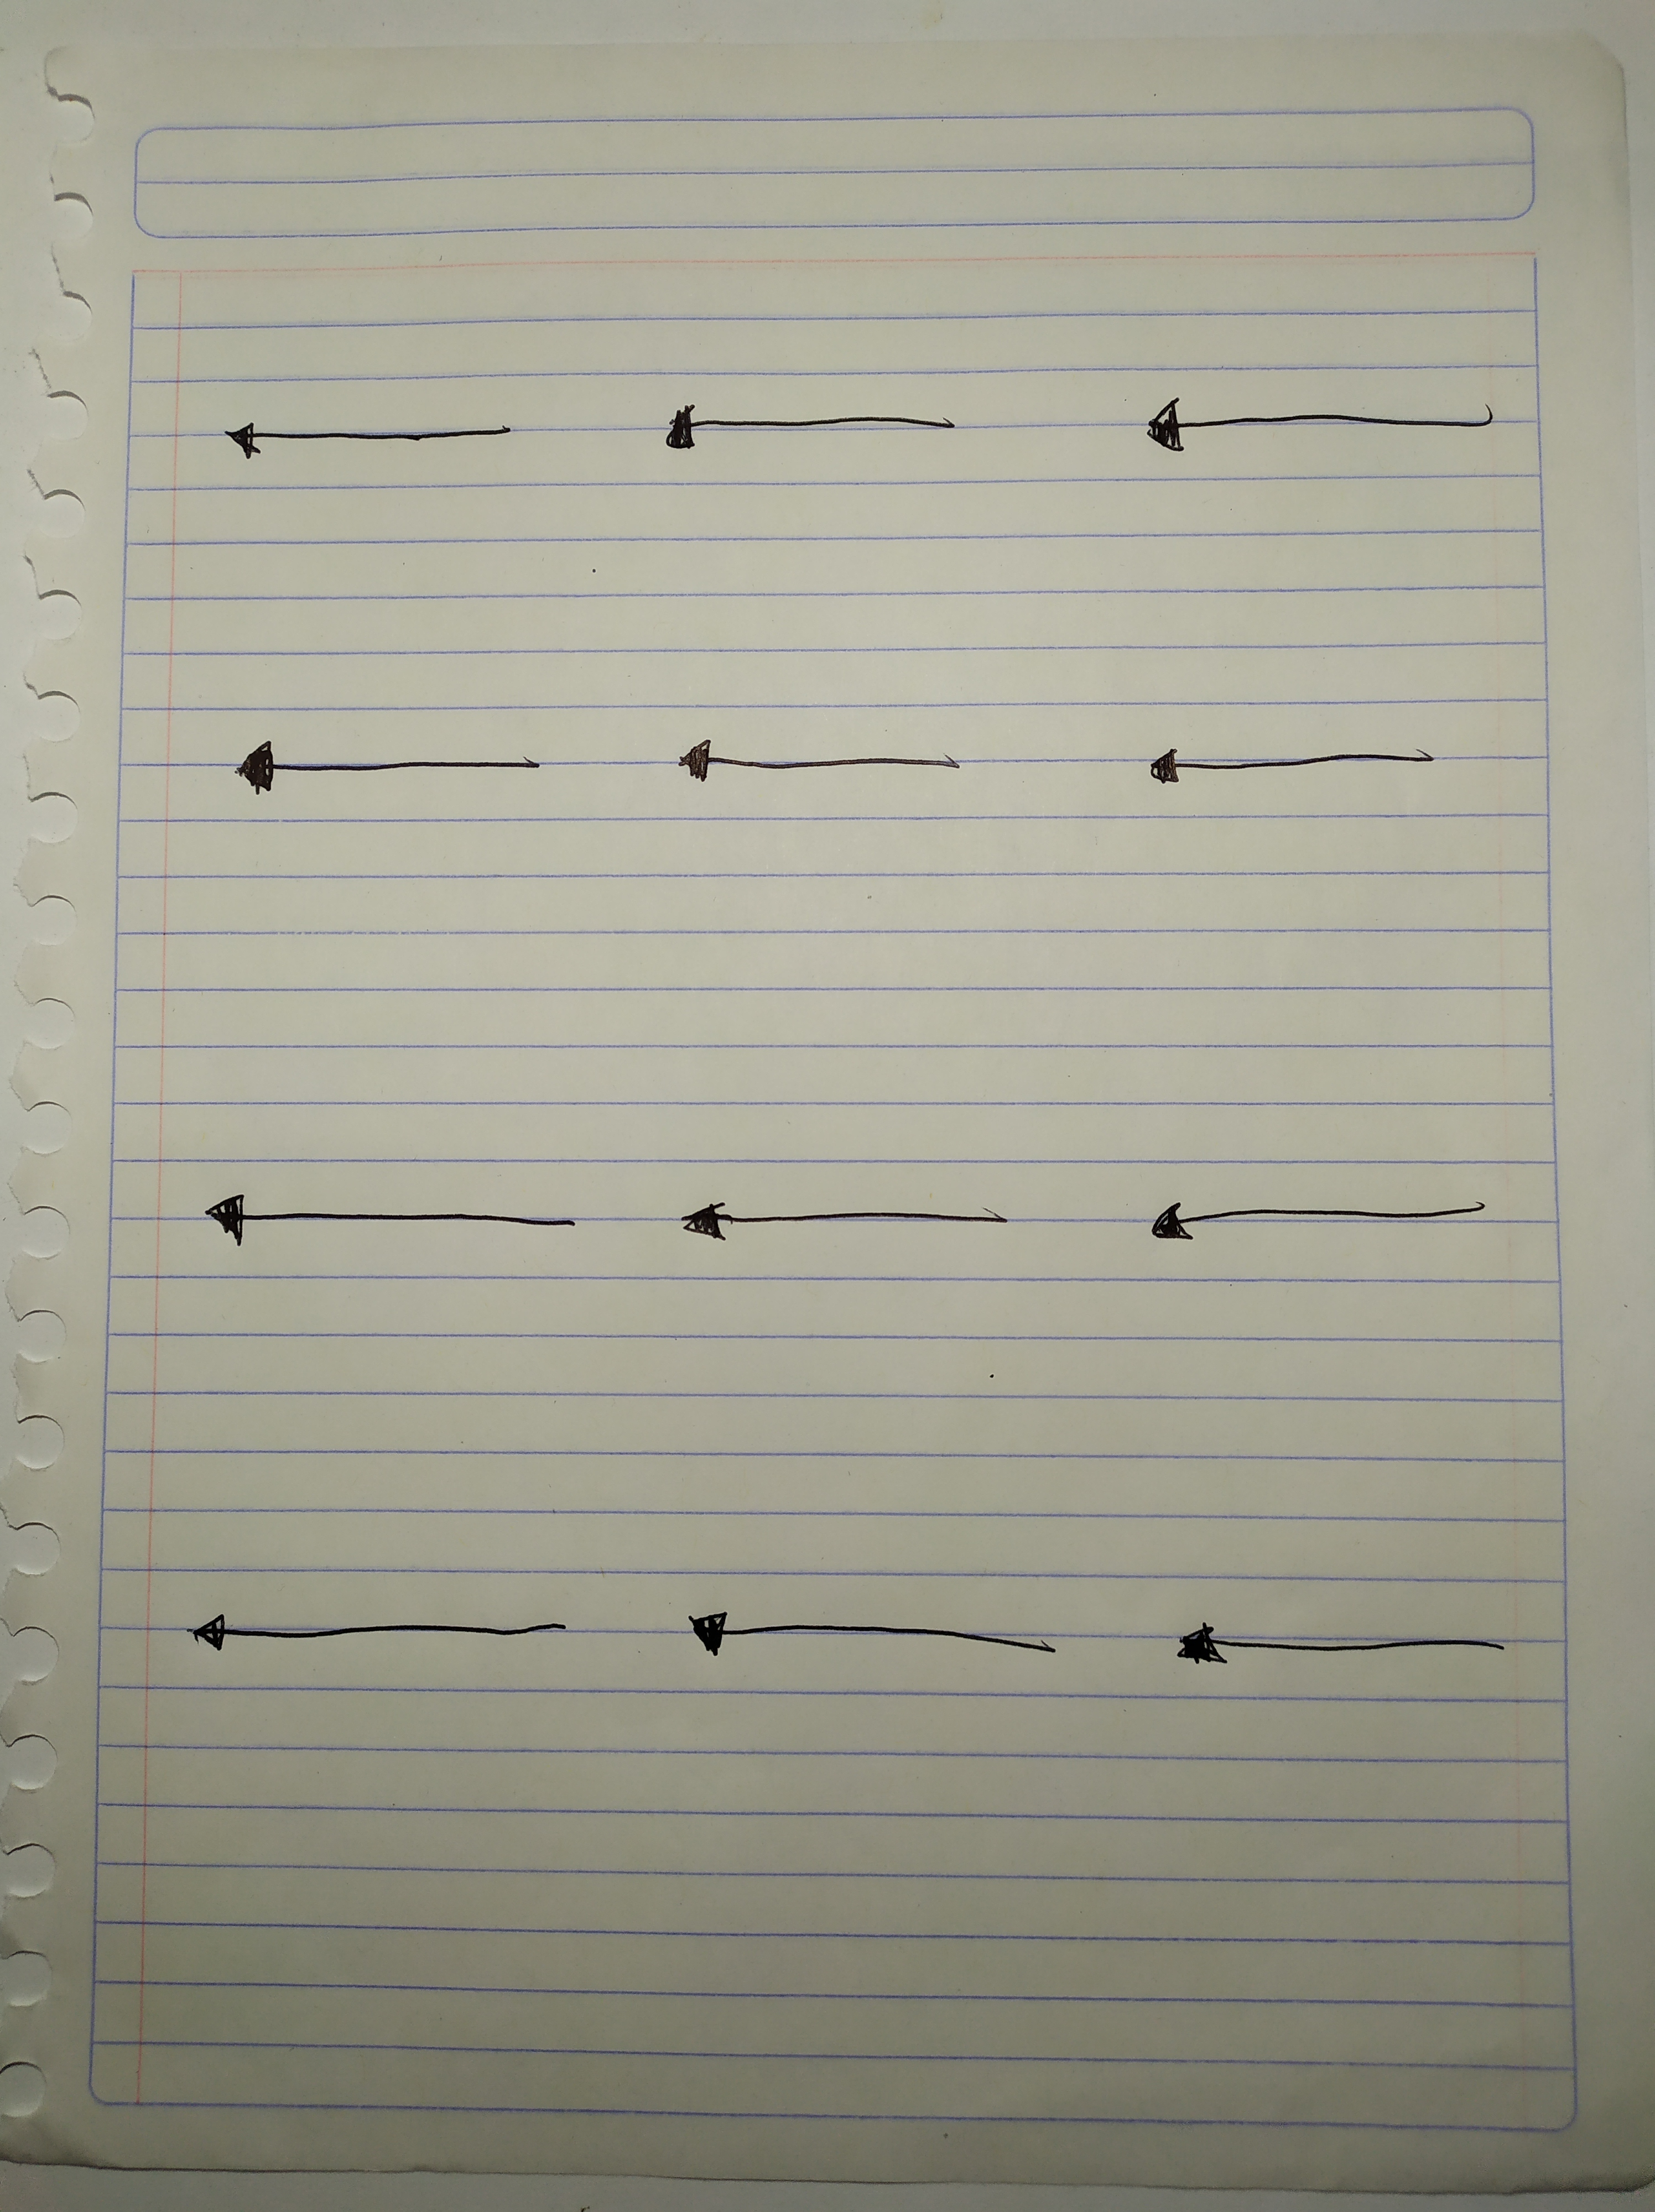arrow_line_left: (156, 1585, 596, 1691), (170, 1173, 595, 1279), (664, 1586, 1078, 1692), (216, 712, 607, 822), (1109, 382, 1533, 481), (617, 387, 991, 497), (1120, 1166, 1507, 1268), (1142, 1597, 1549, 1692), (643, 714, 1003, 815), (654, 1182, 1040, 1265), (188, 396, 542, 487), (1113, 723, 1457, 801)
